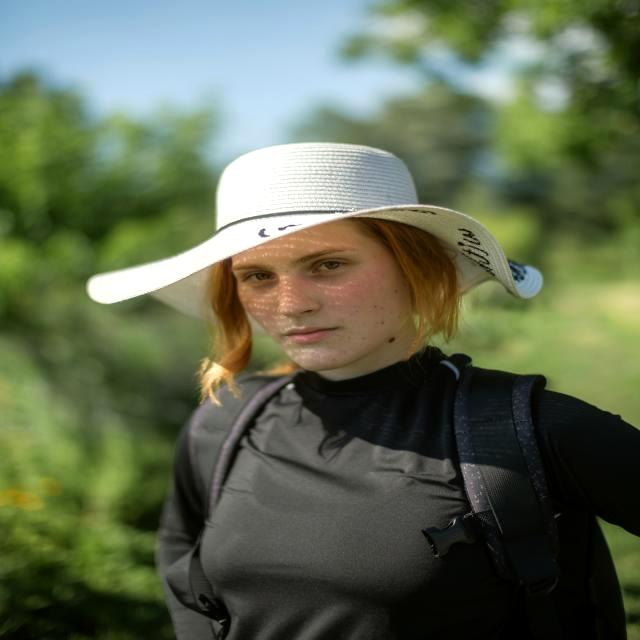no_hard_hat: (87, 143, 541, 316)
person: (87, 143, 640, 640)
